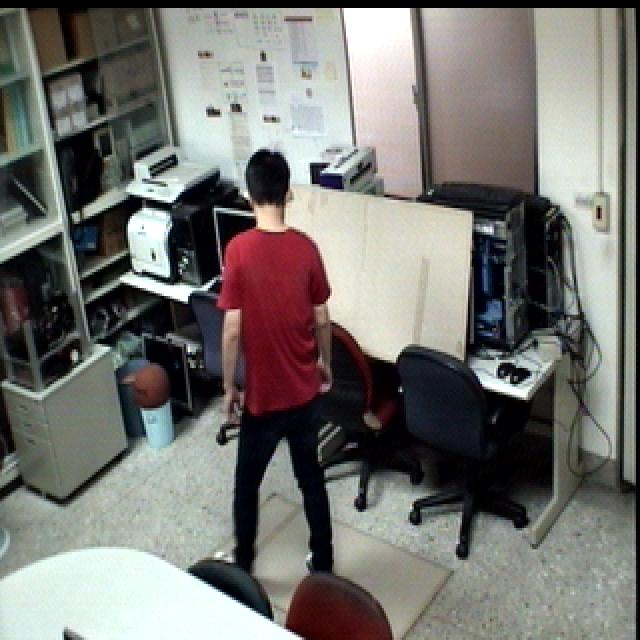stand: (212, 143, 344, 589)
